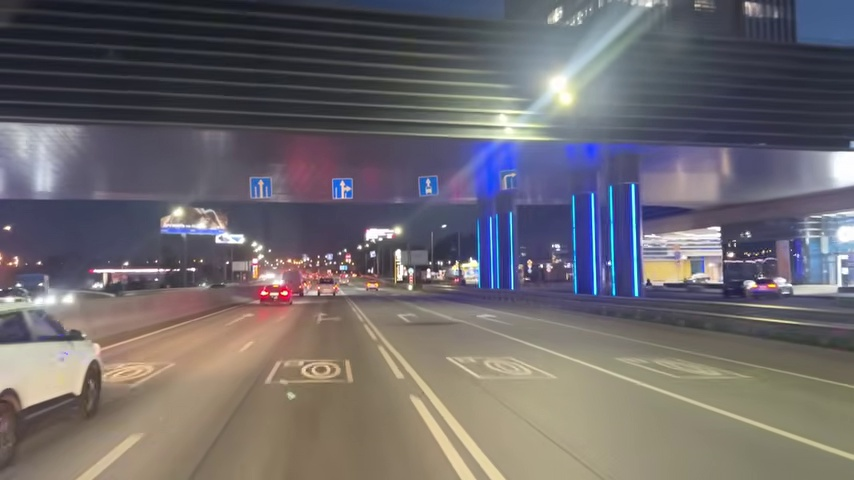acesa: (549, 77, 578, 113), (832, 155, 853, 186), (391, 225, 404, 239)
